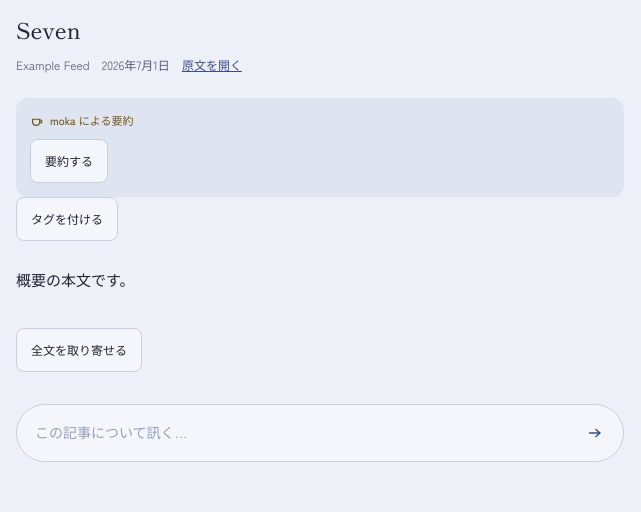
Test: articles/[id] reading view — 要約(moka による濃縮) › shows a summarize button (no auto-fetch) that fetches independently of the fulltext button
Expected: the heading "moka による要約" is shown, [30,112,134,128]
Step 1. Click the button "要約する" → (69, 161), box [30,139,108,183]
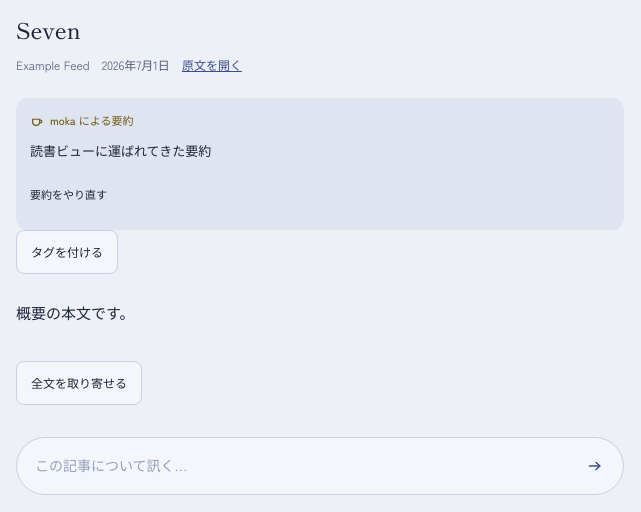
Now the text with test id "summary-text" reads "読書ビューに運ばれてきた要約", box [30,141,211,160]
